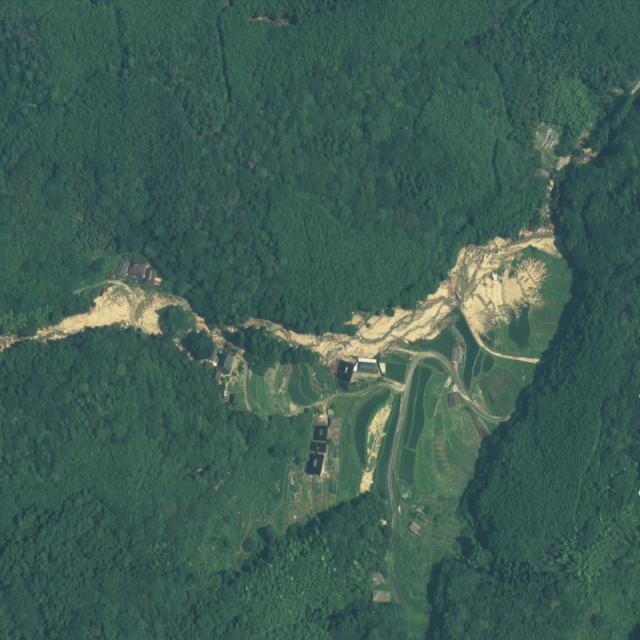landslide: (246, 238, 547, 362), (1, 281, 191, 350)
